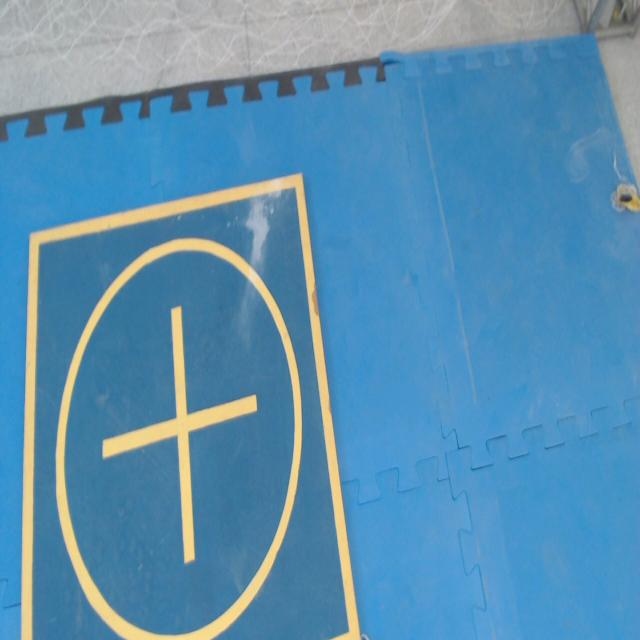base_pouso: (21, 170, 361, 639)
